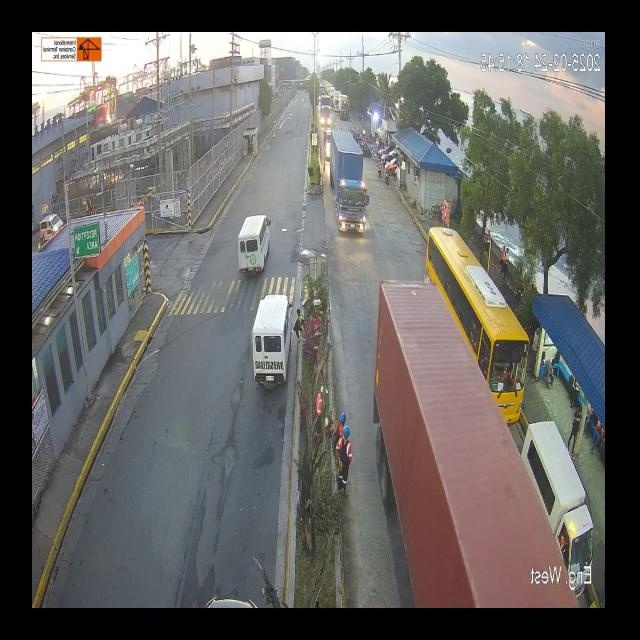bus: (108, 220, 532, 431)
car: (533, 437, 601, 567), (247, 300, 289, 398), (226, 204, 272, 276)
truck: (76, 282, 564, 596), (325, 125, 371, 238), (319, 92, 332, 129), (338, 91, 350, 120)
